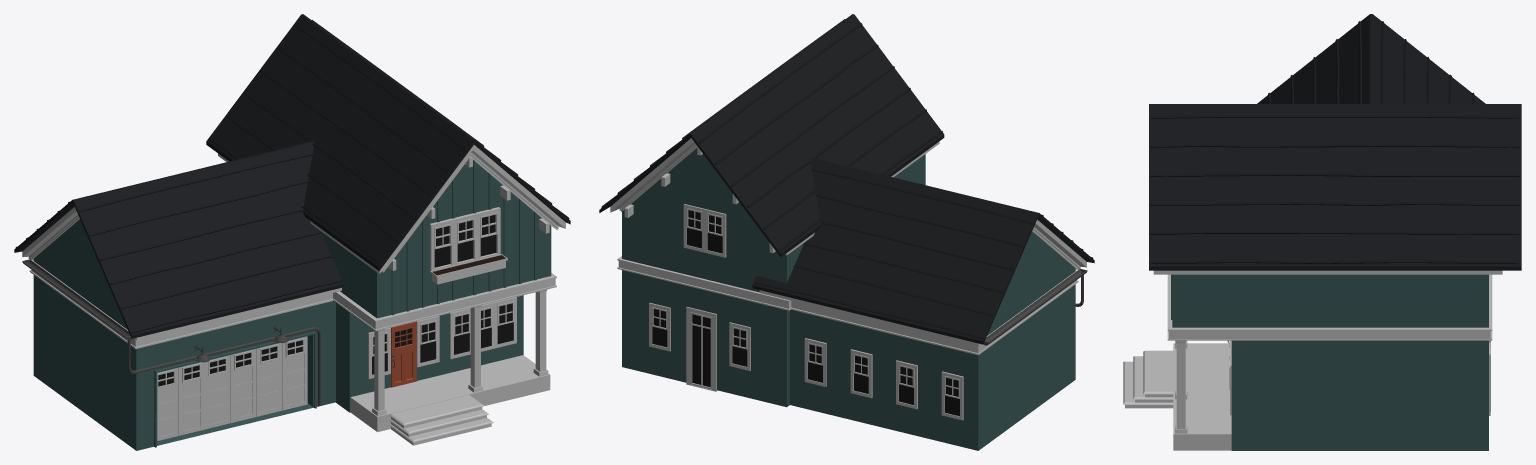
The model's file is SM_house_suburb_004.fbx.
3 renders of one model, left to right at view 1: azimuth 30°, elevation 25°; view 2: azimuth 150°, elevation 25°; view 3: azimuth 270°, elevation 25°, orthographic. The views are drawn at different scales.
Visible parts, largest first — view 1: Box5848; view 2: Box5848; view 3: Box5848.
Part boxes in pixels (<box>): Box5848: <box>14,14,570,450</box>; Box5848: <box>599,14,1094,450</box>; Box5848: <box>1123,14,1521,450</box>.
Bounding box in the file's own units: 666 × 451 × 540.
